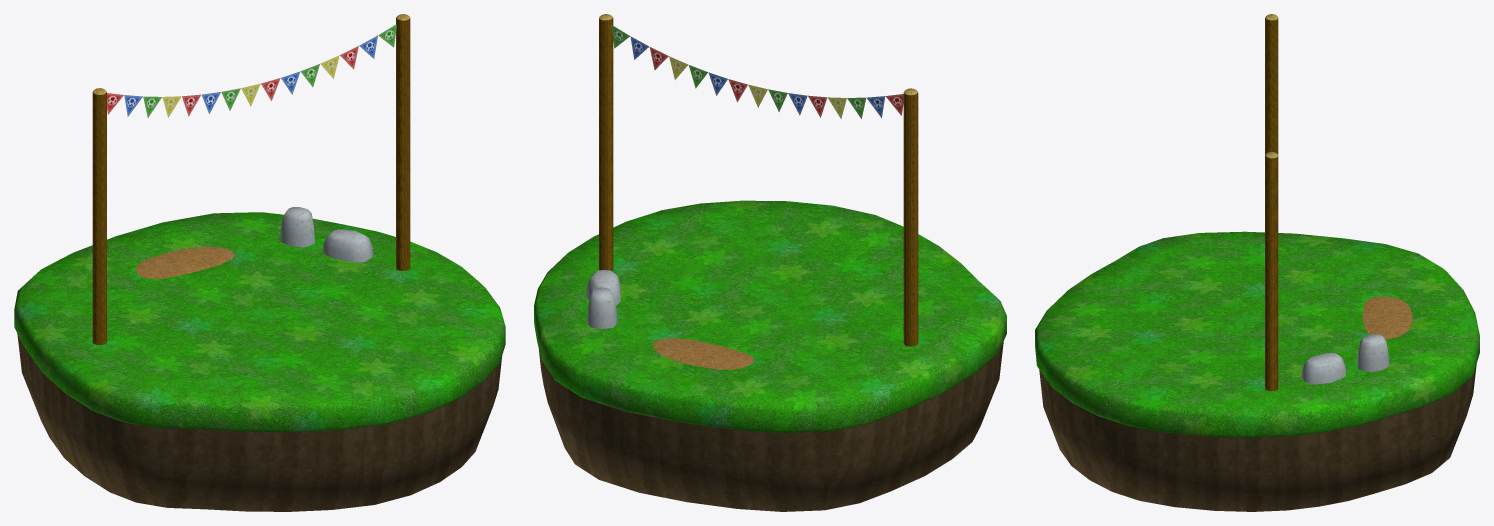
The model's file is HikeGardenIntroduceFlightPlanet.fbx.
3 views of the same model, side by side, from view 1: azimuth 30°, elevation 25°; view 2: azimuth 150°, elevation 25°; view 3: azimuth 270°, elevation 25° (orthographic). The views are drawn at different scales.
Parts seen in each view (by area): view 1: Plane.001, Plane.003, Plane.005, Plane.006, Plane.002, Plane.004; view 2: Plane.001, Plane.003, Plane.005, Plane.006, Plane.004, Plane.002; view 3: Plane.001, Plane.003, Plane.005, Plane.002, Plane.004.
Part boxes in pixels (x1,y1,x2,y2): Plane.001: [14, 212, 505, 432]; Plane.003: [17, 334, 501, 511]; Plane.005: [92, 18, 410, 344]; Plane.006: [107, 24, 396, 117]; Plane.002: [280, 207, 373, 262]; Plane.004: [135, 246, 234, 279]; Plane.001: [534, 200, 1006, 432]; Plane.003: [539, 342, 1003, 511]; Plane.005: [599, 18, 918, 346]; Plane.006: [611, 25, 903, 118]; Plane.004: [653, 338, 754, 369]; Plane.002: [586, 270, 620, 329]; Plane.001: [1035, 231, 1479, 437]; Plane.003: [1039, 364, 1476, 511]; Plane.005: [1265, 18, 1278, 390]; Plane.002: [1301, 334, 1389, 384]; Plane.004: [1362, 296, 1412, 339].
Size of the model in its own units: 181683 by 158309 by 185469.
7 materials, 7 textured.
